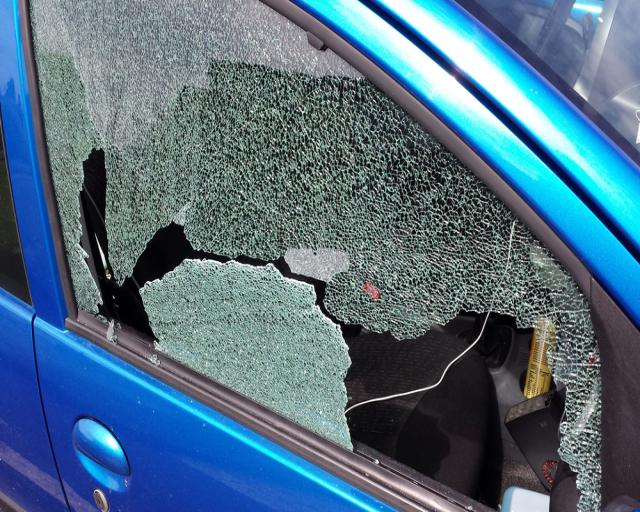glass shatter: (28, 0, 602, 512)
